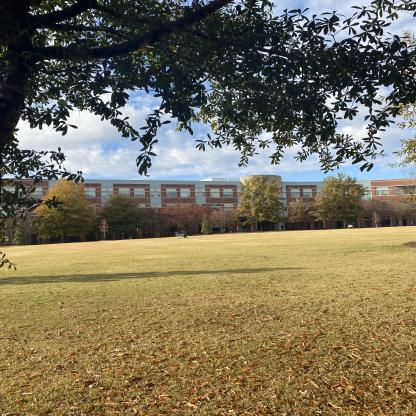EB-1: (0, 181, 415, 248)
